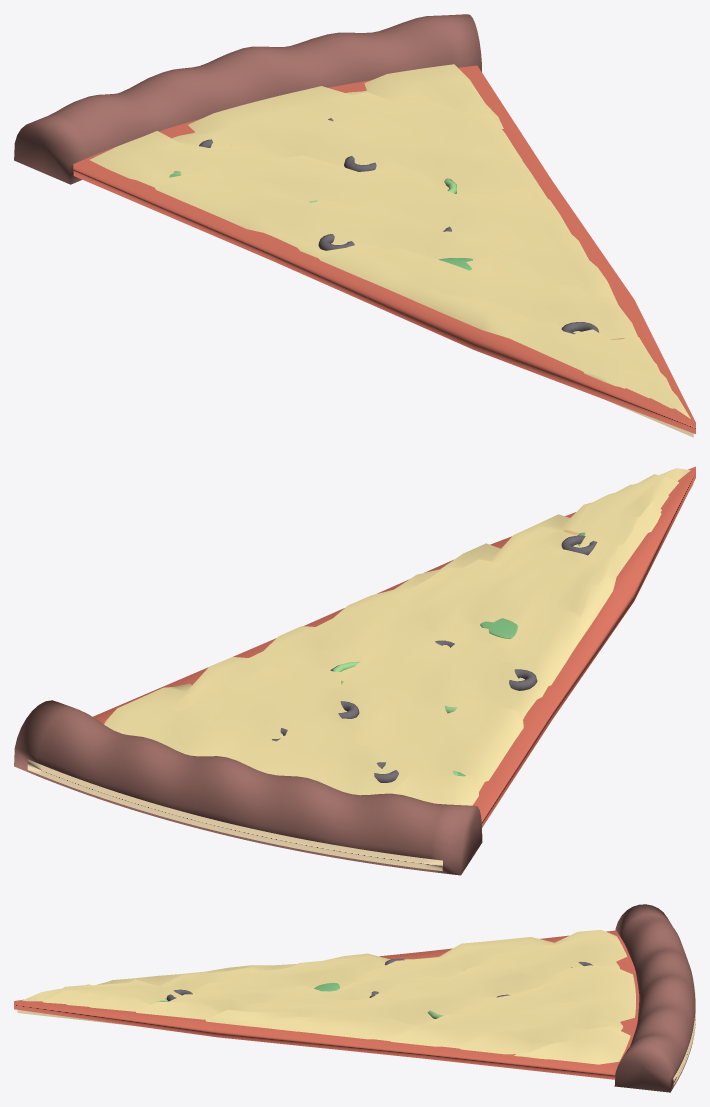
The model's file is EatsaPizzaSlice.glb.
3 views of the same model, one above another, from view 1: azimuth 30°, elevation 25°; view 2: azimuth 150°, elevation 25°; view 3: azimuth 270°, elevation 25° (orthographic). The views are drawn at different scales.
Visible parts, largest first — view 1: Cheese, Crust, Sauce, Olives; view 2: Cheese, Crust, Sauce, Dough, Olives; view 3: Cheese, Crust, Sauce, Dough.
Boxes of the visible parts, box(x1,y1,x2,y2) form: Cheese: box(89, 64, 690, 418); Crust: box(14, 14, 481, 184); Sauce: box(73, 65, 695, 433); Olives: box(199, 118, 598, 333); Cheese: box(104, 468, 690, 805); Crust: box(14, 700, 482, 875); Sauce: box(92, 466, 695, 827); Dough: box(27, 483, 693, 871); Olives: box(272, 535, 597, 782); Cheese: box(22, 930, 635, 1064); Crust: box(614, 904, 695, 1092); Sauce: box(14, 930, 639, 1079); Dough: box(17, 981, 695, 1085).
Size of the model in its own units: 10.89 by 1.26 by 20.1.
